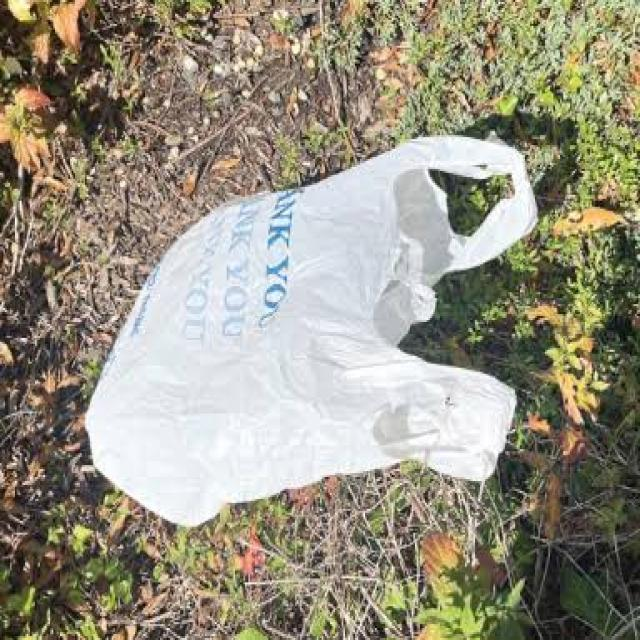plastic bag: (62, 110, 547, 544)
